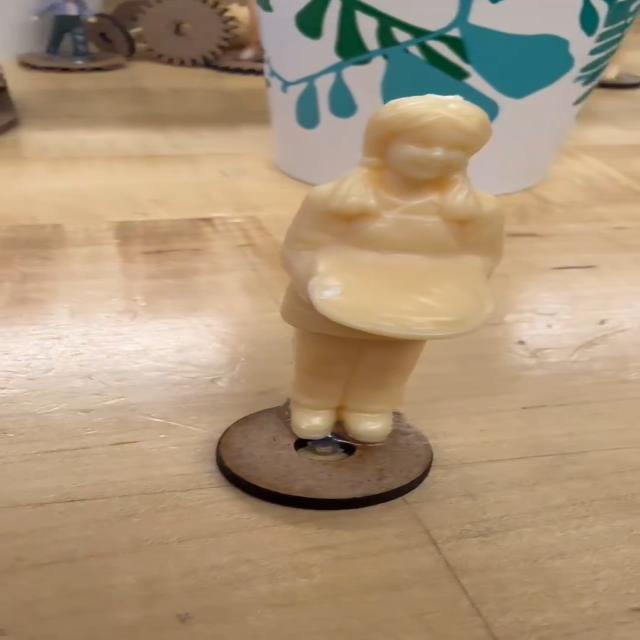Unauthorized: (242, 77, 503, 448)
